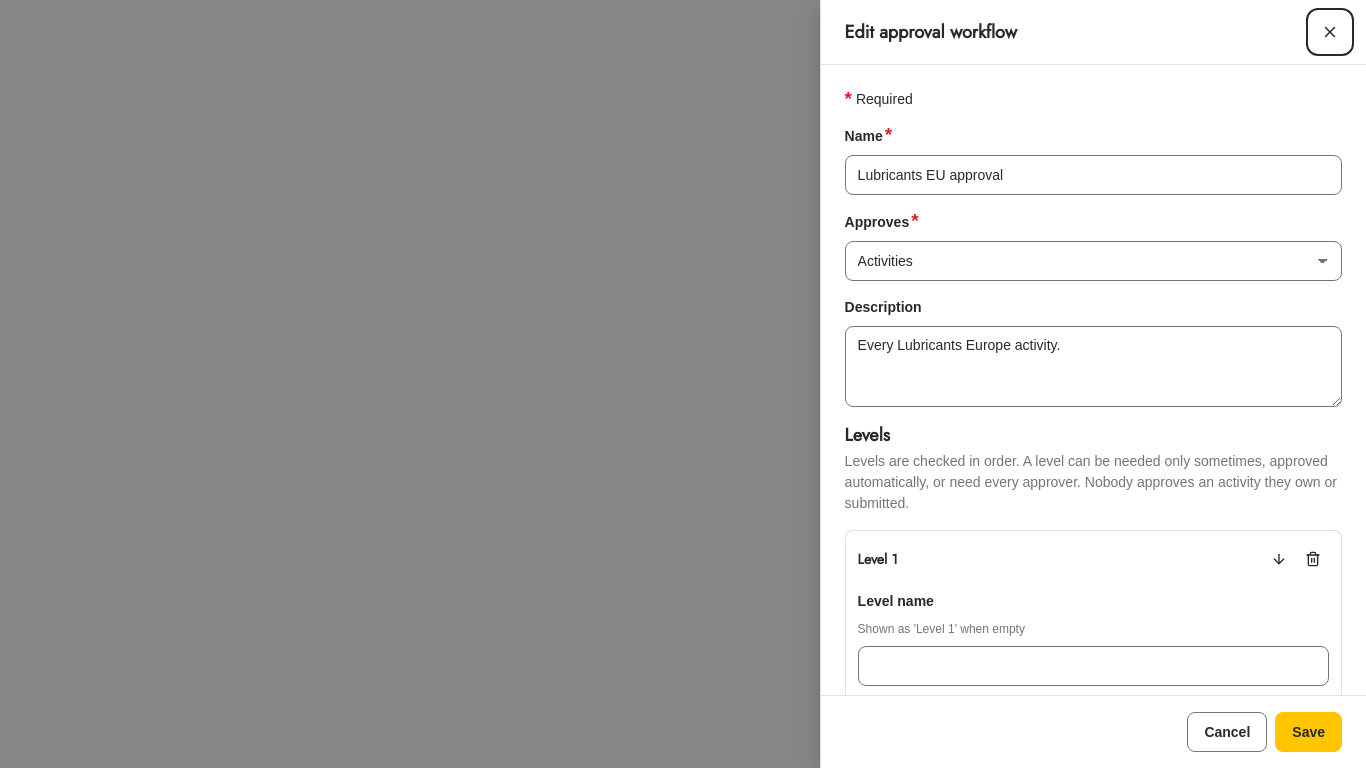
WorkflowFormPanel object type (feature 031, US2) › an unused workflow can change what it approves, and sends only that (031 FR-005)
Select "Modified purchase requests" in the dropdown labelled "Approves" at {"x": 1093, "y": 261}, box [845, 241, 1342, 281]
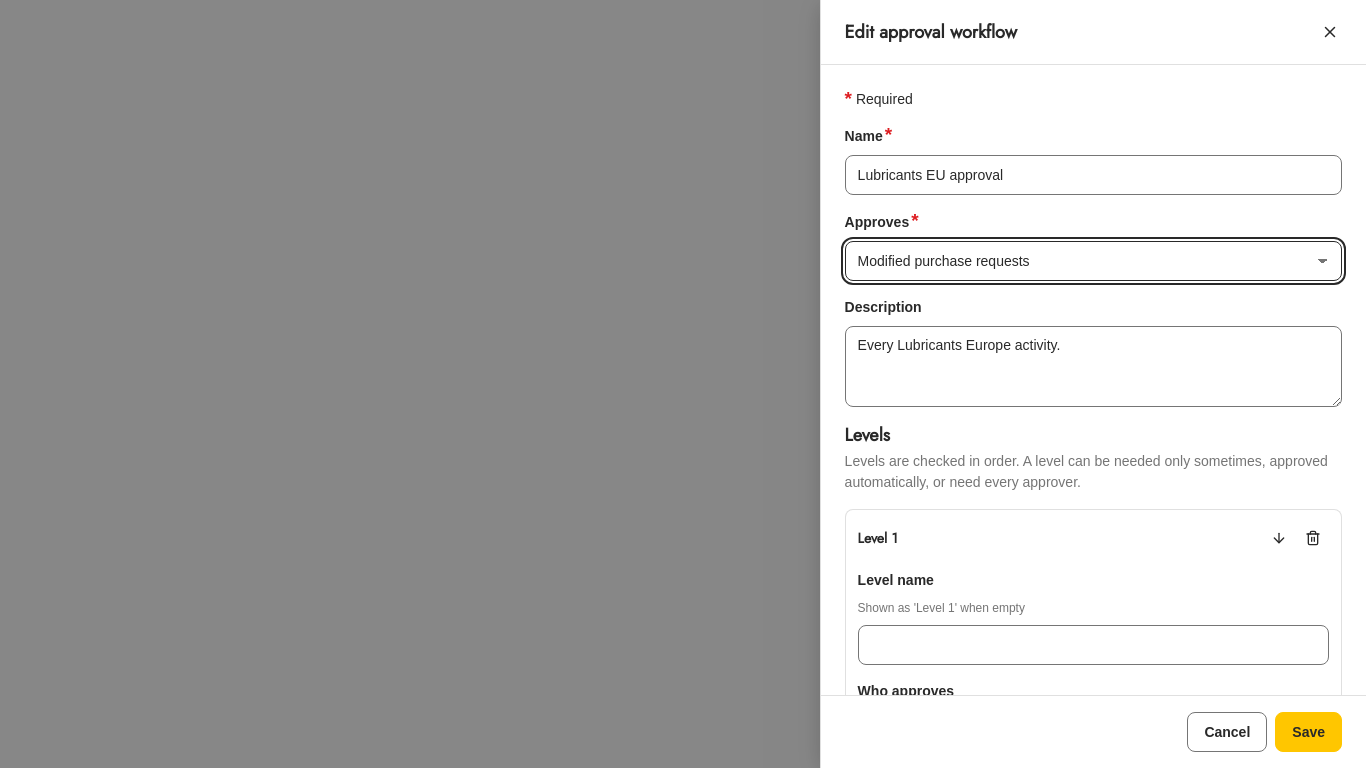
Click the button "Save" at {"x": 1309, "y": 732}, box [1275, 712, 1342, 752]
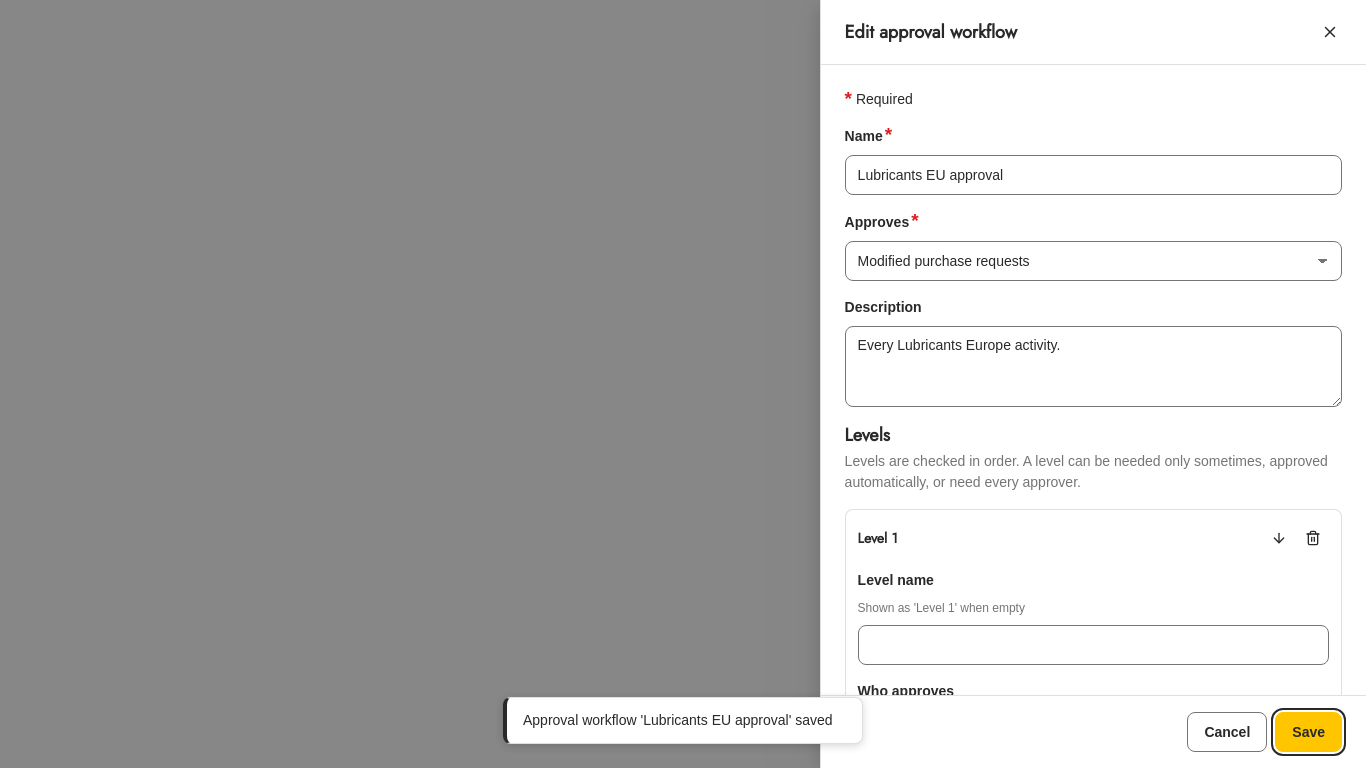
expect the text "Approval workflow 'Lubricants EU approval' saved" is shown: met, box [523, 710, 850, 731]
